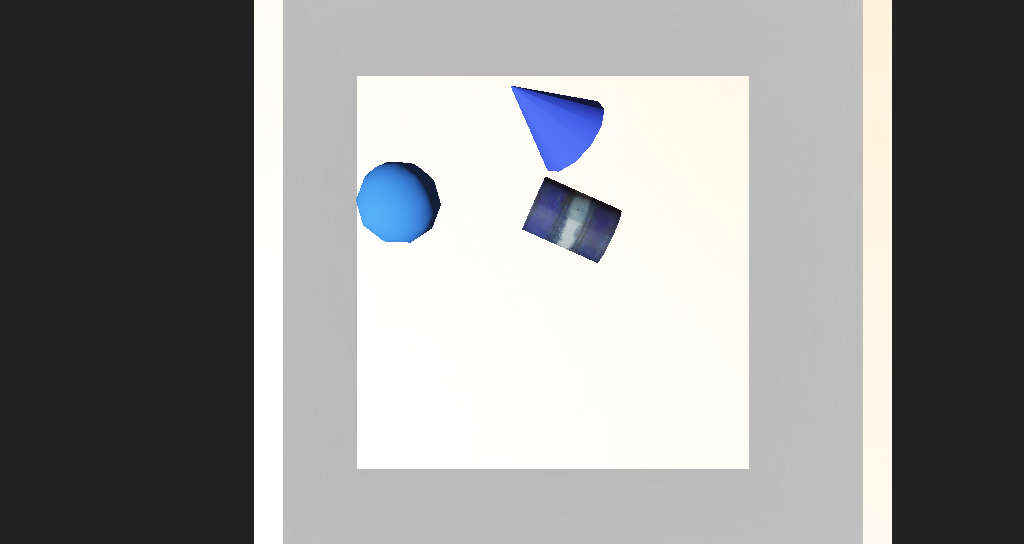cone: (478, 215, 559, 262)
cylinder: (438, 146, 546, 217)
sphere: (360, 205, 421, 253)
